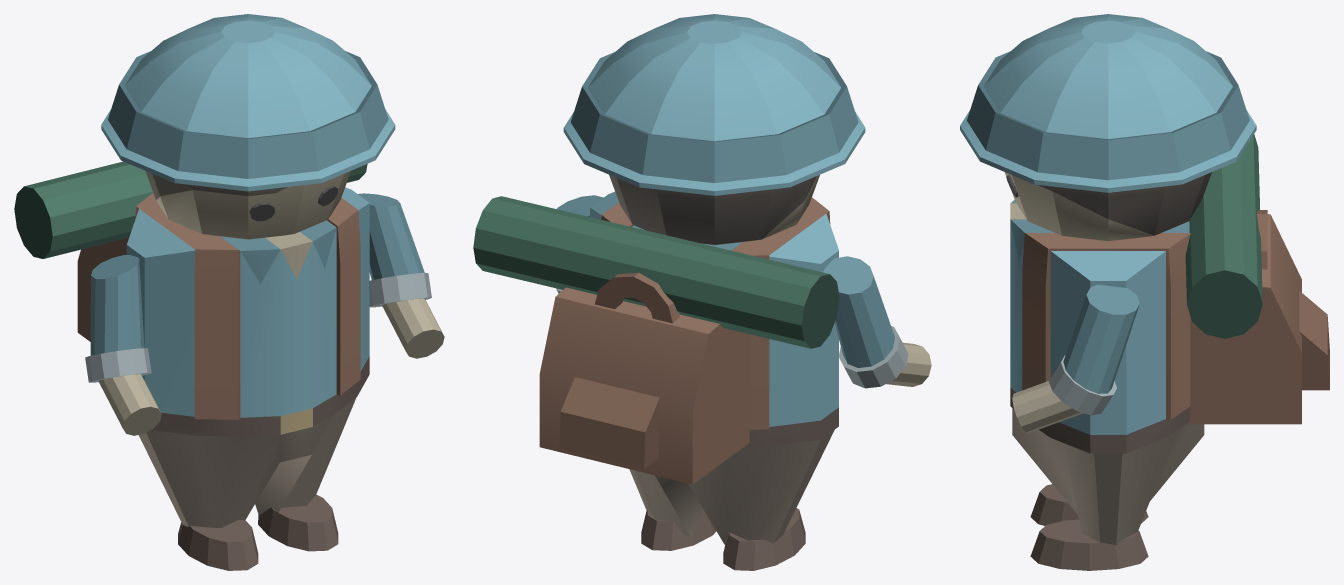
Rendered from Gunner Troop.fbx.
The picture shows the model from 3 angles, left to right: view 1: azimuth 30°, elevation 25°; view 2: azimuth 150°, elevation 25°; view 3: azimuth 270°, elevation 25°; orthographic projection. The views are drawn at different scales.
Parts seen in each view (by area): view 1: pCylinder15; view 2: pCylinder15; view 3: pCylinder15.
Part boxes in pixels (x1,y1,x2,y2): pCylinder15: (14, 14, 444, 570); pCylinder15: (473, 14, 931, 570); pCylinder15: (960, 14, 1329, 570).
Bounding box in the file's own units: 16.37 × 23.21 × 15.42.
